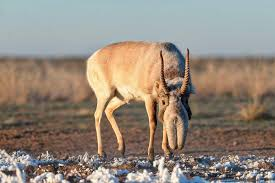saiga: (86, 40, 196, 168)
